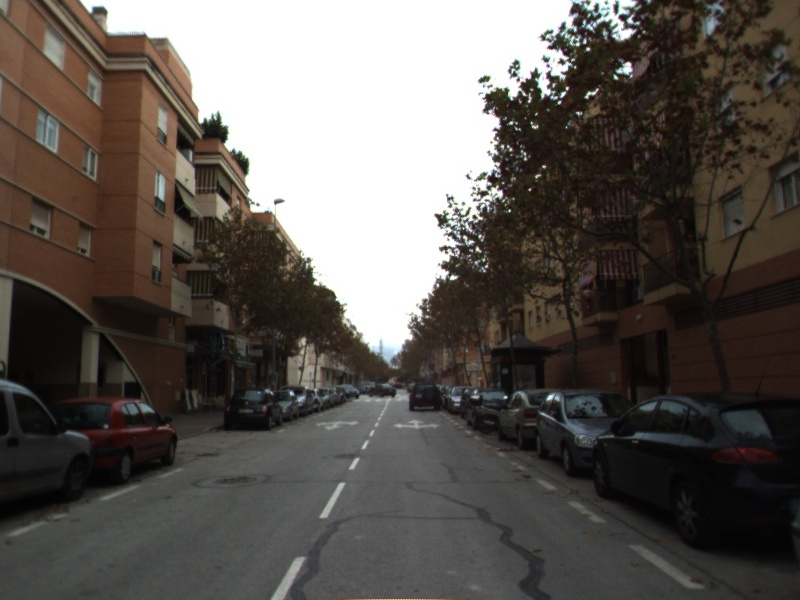STRAIGHT_LEFT_RIGHT: (391, 417, 442, 431)
